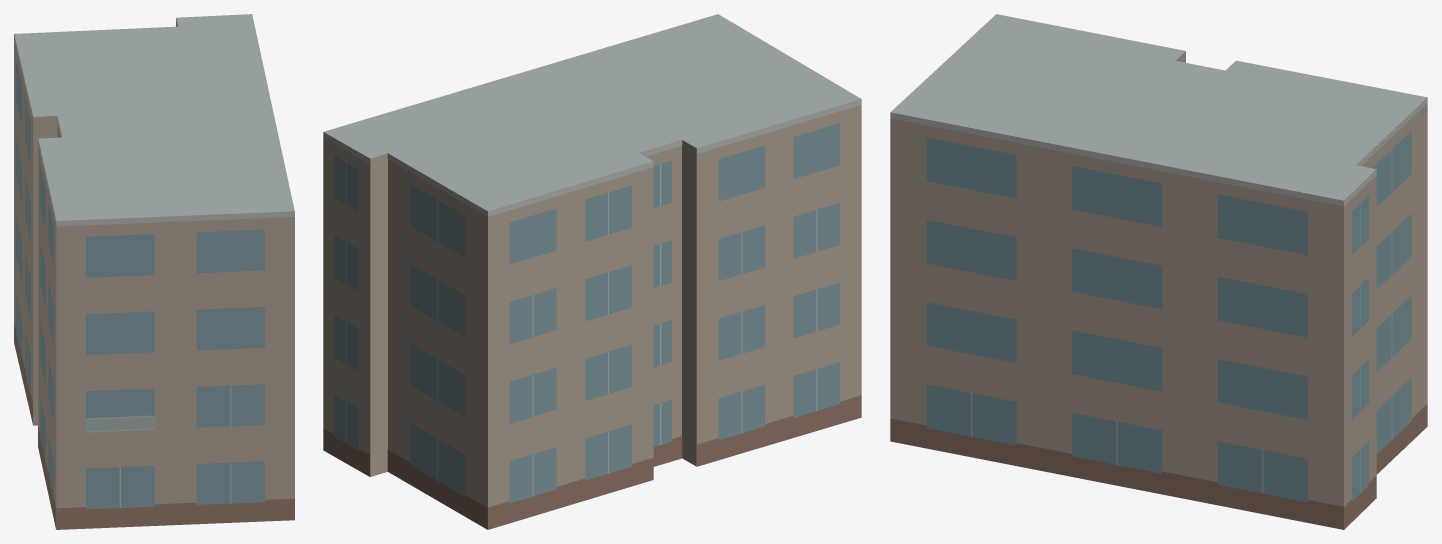
The model's file is survey-upis-32672068.glb.
3 views of the same model, side by side, from view 1: azimuth 30°, elevation 25°; view 2: azimuth 150°, elevation 25°; view 3: azimuth 270°, elevation 25° (orthographic). The views are drawn at different scales.
Parts seen in each view (by area): view 1: survey-upis-32672068.tmp; view 2: survey-upis-32672068.tmp; view 3: survey-upis-32672068.tmp.
Boxes of the visible parts, x1,y1,x2,y2 form: survey-upis-32672068.tmp: [14, 14, 294, 529]; survey-upis-32672068.tmp: [323, 14, 861, 529]; survey-upis-32672068.tmp: [890, 14, 1427, 529].
Size of the model in its own units: 16.49 by 13.55 by 20.05.
